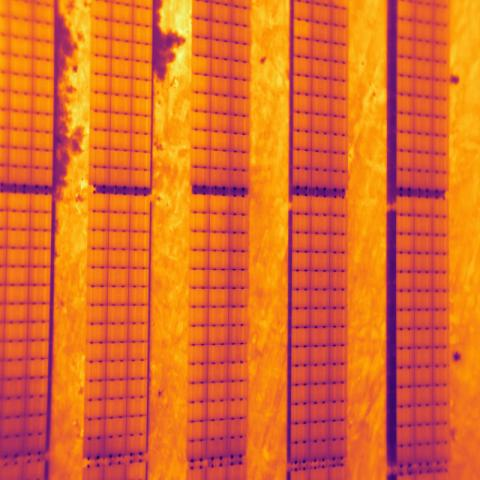fault: (293, 19, 312, 39)
